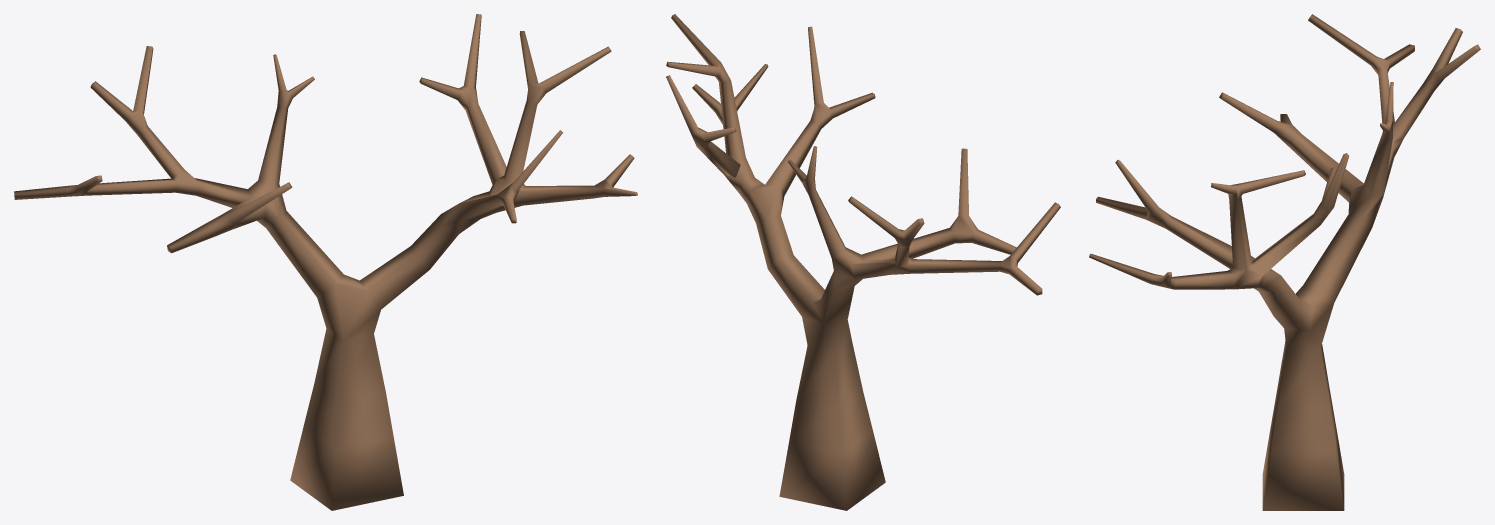
File: Acacia_Dry_LightBrown_1.fbx
3 views of the same model, side by side, from view 1: azimuth 30°, elevation 25°; view 2: azimuth 150°, elevation 25°; view 3: azimuth 270°, elevation 25° (orthographic). The views are drawn at different scales.
Parts seen in each view (by area): view 1: Acacia_Dry_LightBrown_1; view 2: Acacia_Dry_LightBrown_1; view 3: Acacia_Dry_LightBrown_1.
Boxes of the visible parts, left/top/right/bottom form: Acacia_Dry_LightBrown_1: left=14, top=14, right=637, bottom=510; Acacia_Dry_LightBrown_1: left=666, top=14, right=1060, bottom=510; Acacia_Dry_LightBrown_1: left=1089, top=14, right=1480, bottom=510.
Bounding box in the file's own units: 659 × 536 × 460.
